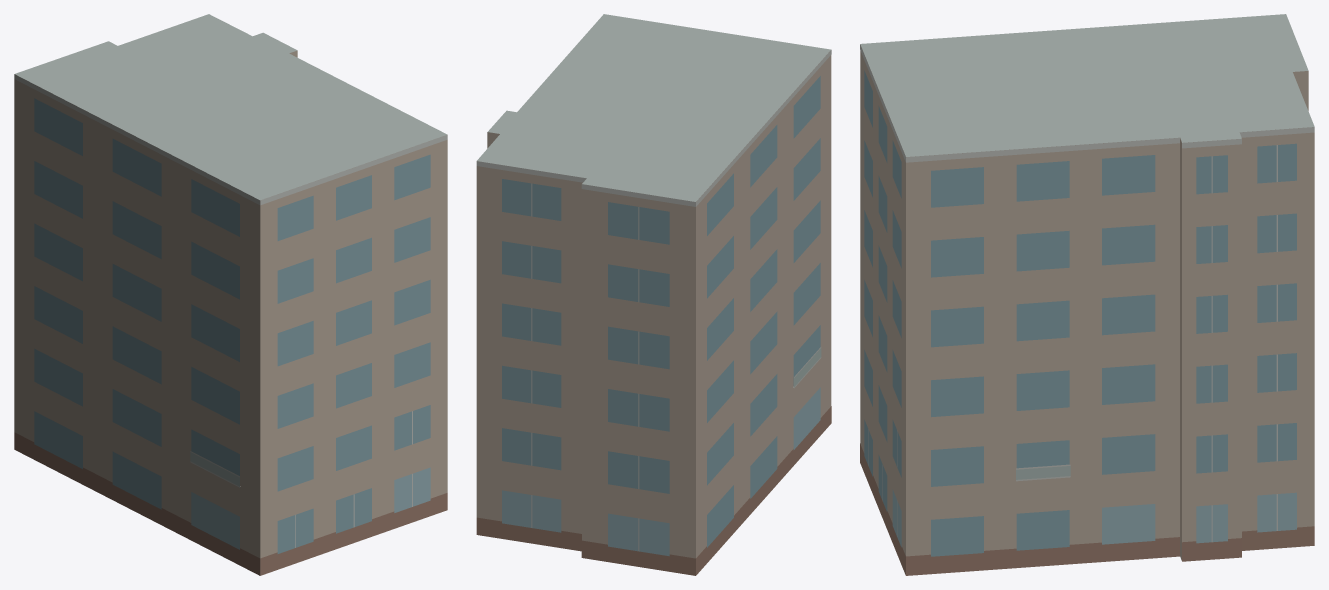
The model's file is survey-upis-32971125.glb.
3 renders of one model, left to right at view 1: azimuth 30°, elevation 25°; view 2: azimuth 150°, elevation 25°; view 3: azimuth 270°, elevation 25°, orthographic. The views are drawn at different scales.
Parts seen in each view (by area): view 1: survey-upis-32971125.tmp; view 2: survey-upis-32971125.tmp; view 3: survey-upis-32971125.tmp.
Boxes of the visible parts, left/top/right/bottom form: survey-upis-32971125.tmp: left=14, top=14, right=447, bottom=575; survey-upis-32971125.tmp: left=476, top=14, right=831, bottom=575; survey-upis-32971125.tmp: left=860, top=14, right=1314, bottom=575.
Size of the model in its own units: 13.42 by 18.3 by 18.01.
